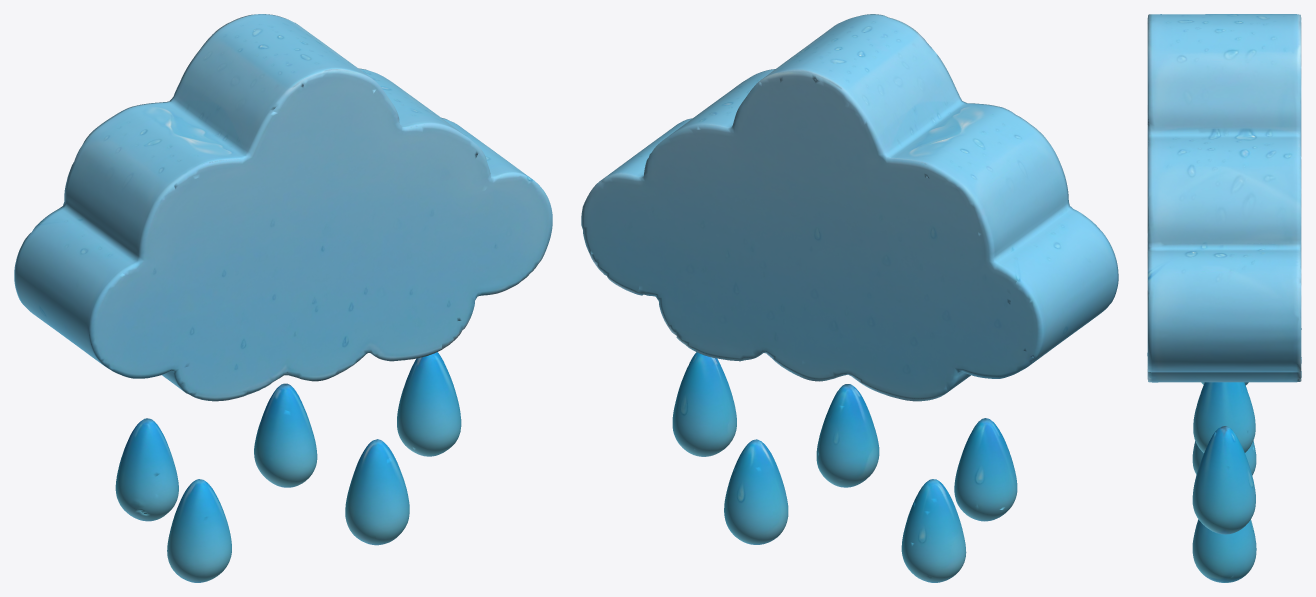
The model's file is rain.fbx.
3 views of the same model, side by side, from view 1: azimuth 30°, elevation 25°; view 2: azimuth 150°, elevation 25°; view 3: azimuth 270°, elevation 25° (orthographic).
Visible parts, largest first — view 1: Mesh_0; view 2: Mesh_0; view 3: Mesh_0.
Boxes of the visible parts, x1,y1,x2,y2 form: Mesh_0: (14,14,552,582); Mesh_0: (581,14,1118,582); Mesh_0: (1147,14,1301,582).
Size of the model in its own units: 186 by 200 by 54.24.
1 material, 1 textured.
